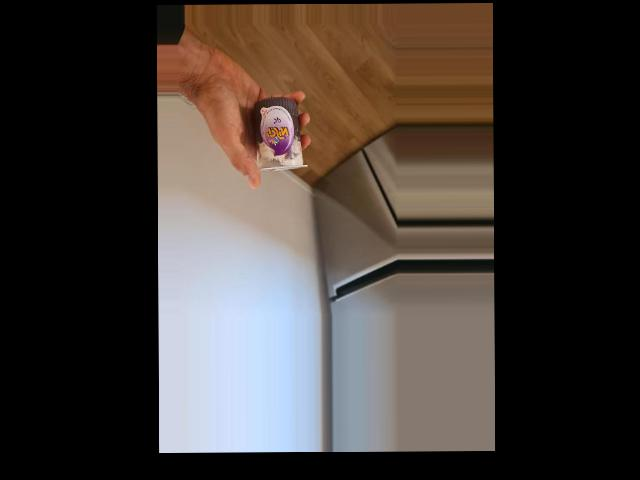milky: (250, 96, 308, 172)
